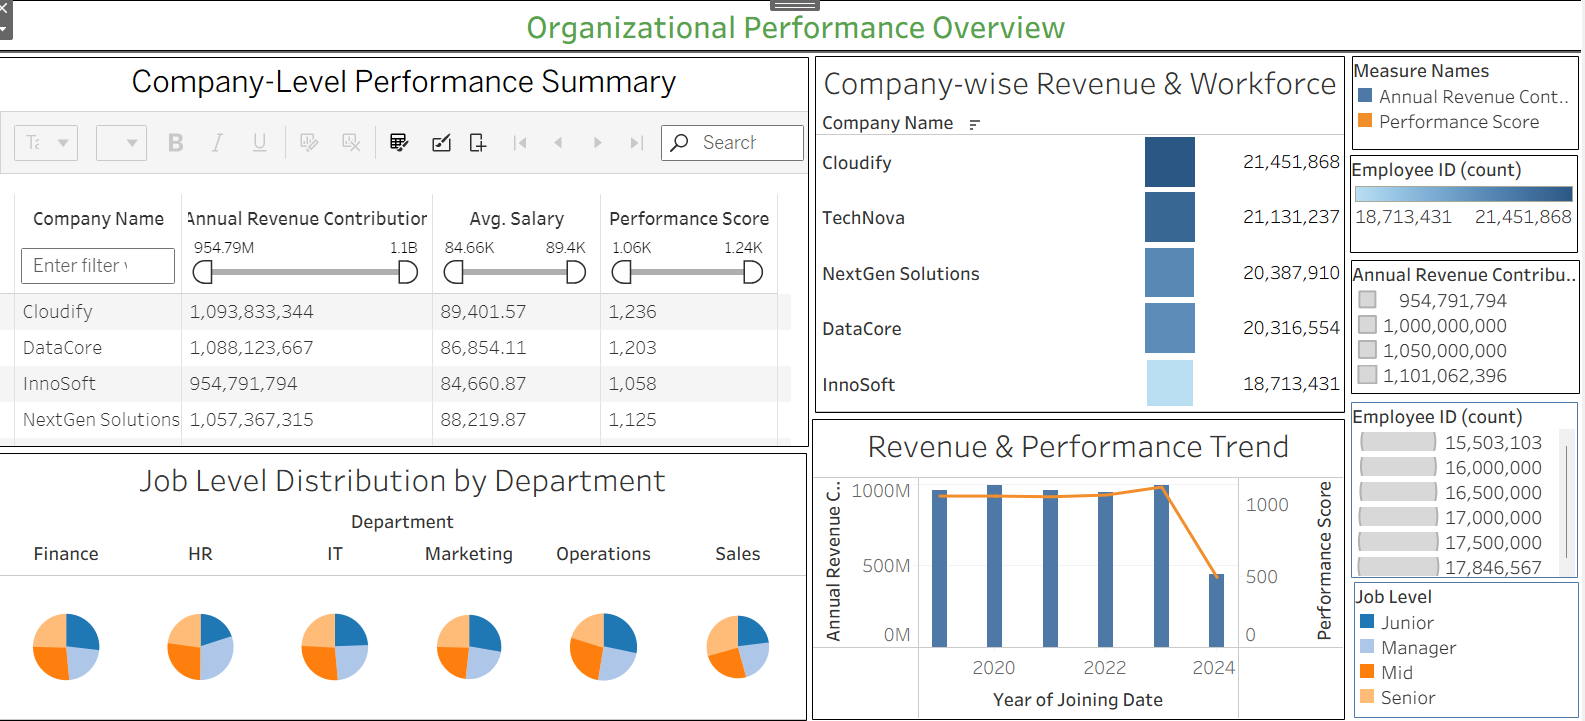

What the dashboard file says about the page in this screenshot:
{"tool":"tableau","page":{"name":"Dashboard 3","canvas":[1000,1000],"units":"permille","ordinal":2},"visuals":[{"type":"text","box":[1.2,9.4,1001.2,69.6]},{"type":"worksheet","title":"Sheet 14","mark":"Automatic","rows":["Company_Name"],"box":[513.8,86.3,331.2,489]},{"type":"legend","title":"Revenue & Performance Trend","param":"[federated.07zks620ny4gbi10tl0fo1t7yrjh].[:Measure Names]","box":[849.4,86.3,141.9,128.8]},{"type":"worksheet","title":"COMPANY SUMMARY TABLE","box":[3.8,87.7,506.2,534.2]},{"type":"legend","title":"Sheet 14","param":"[federated.07zks620ny4gbi10tl0fo1t7yrjh].[sum:Employee ID (copy)_076418980083712","box":[848.1,221.9,142.5,134.2]},{"type":"legend","title":"Sheet 14","param":"[federated.07zks620ny4gbi10tl0fo1t7yrjh].[sum:Annual_Revenue_Contribution:qk]","box":[848.8,365.8,143.1,183.6]},{"type":"legend","title":"Dept Job level","param":"[federated.07zks620ny4gbi10tl0fo1t7yrjh].[sum:Employee ID (copy)_076418980083712","box":[848.8,560.3,141.9,241.1]},{"type":"worksheet","title":"Revenue & Performance Trend","mark":"Automatic","rows":["Annual_Revenue_Contribution","Performance_Score"],"cols":["Joining_Date"],"box":[511.9,583.6,333.1,412.3]},{"type":"worksheet","title":"Dept Job level","mark":"Pie","cols":["Department"],"box":[3.1,630.1,505.6,367.1]},{"type":"legend","title":"Dept Job level","param":"[federated.07zks620ny4gbi10tl0fo1t7yrjh].[none:Job_Level:nk]","box":[850.6,806.9,140.6,186.3]}]}

Visuals, with their boxes on the dashboard's canvas, which has no fixed pixel size, in thousandths of its width and height (x1, y1, x2, y2). These are canvas units, not pixel positions in the 1585x721 screenshot, which may show the page scaled, cropped or inside an application window:
text: (1, 9, 1002, 79)
"Sheet 14" worksheet: (514, 86, 845, 575)
"Revenue & Performance Trend" legend: (849, 86, 991, 215)
"COMPANY SUMMARY TABLE" worksheet: (4, 88, 510, 622)
"Sheet 14" legend: (848, 222, 991, 356)
"Sheet 14" legend: (849, 366, 992, 549)
"Dept Job level" legend: (849, 560, 991, 801)
"Revenue & Performance Trend" worksheet: (512, 584, 845, 996)
"Dept Job level" worksheet (Pie marks): (3, 630, 509, 997)
"Dept Job level" legend: (851, 807, 991, 993)
